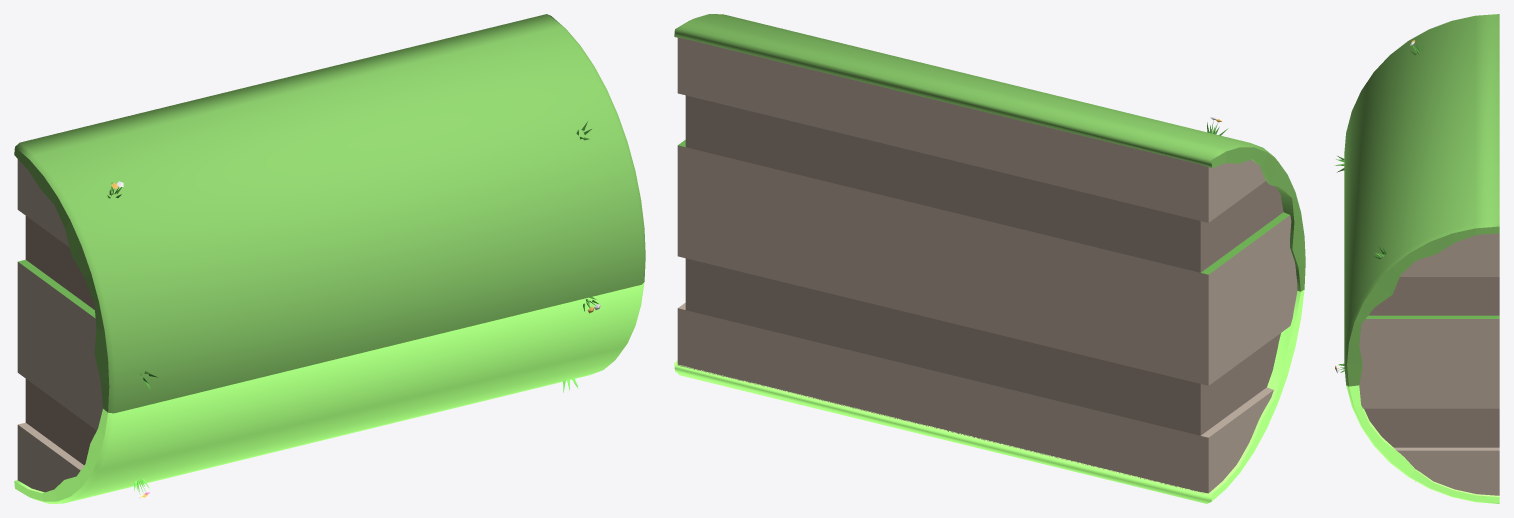
The model's file is island-flip-cap.glb.
The picture shows the model from 3 angles, left to right: view 1: azimuth 30°, elevation 25°; view 2: azimuth 150°, elevation 25°; view 3: azimuth 270°, elevation 25°; orthographic projection. The views are drawn at different scales.
Parts seen in each view (by area): view 1: island-flip-cap; view 2: island-flip-cap; view 3: island-flip-cap.
Boxes of the visible parts, <box> form: island-flip-cap: <box>14,14,645,503</box>; island-flip-cap: <box>674,14,1305,503</box>; island-flip-cap: <box>1334,14,1499,503</box>.
Bounding box in the file's own units: 30.4 × 18.8 × 9.99.
